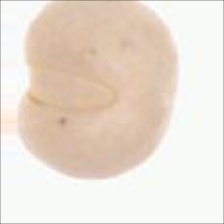L5: (22, 55, 119, 118)
L6: (12, 1, 185, 182)
